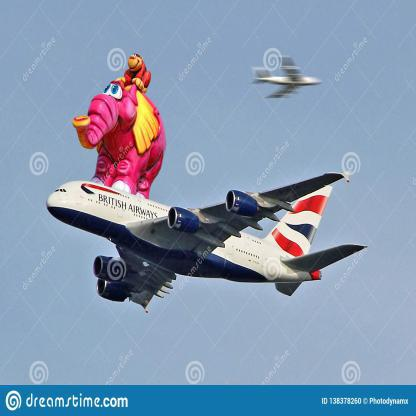CIV_Plane: (43, 170, 368, 310), (252, 56, 321, 103)
